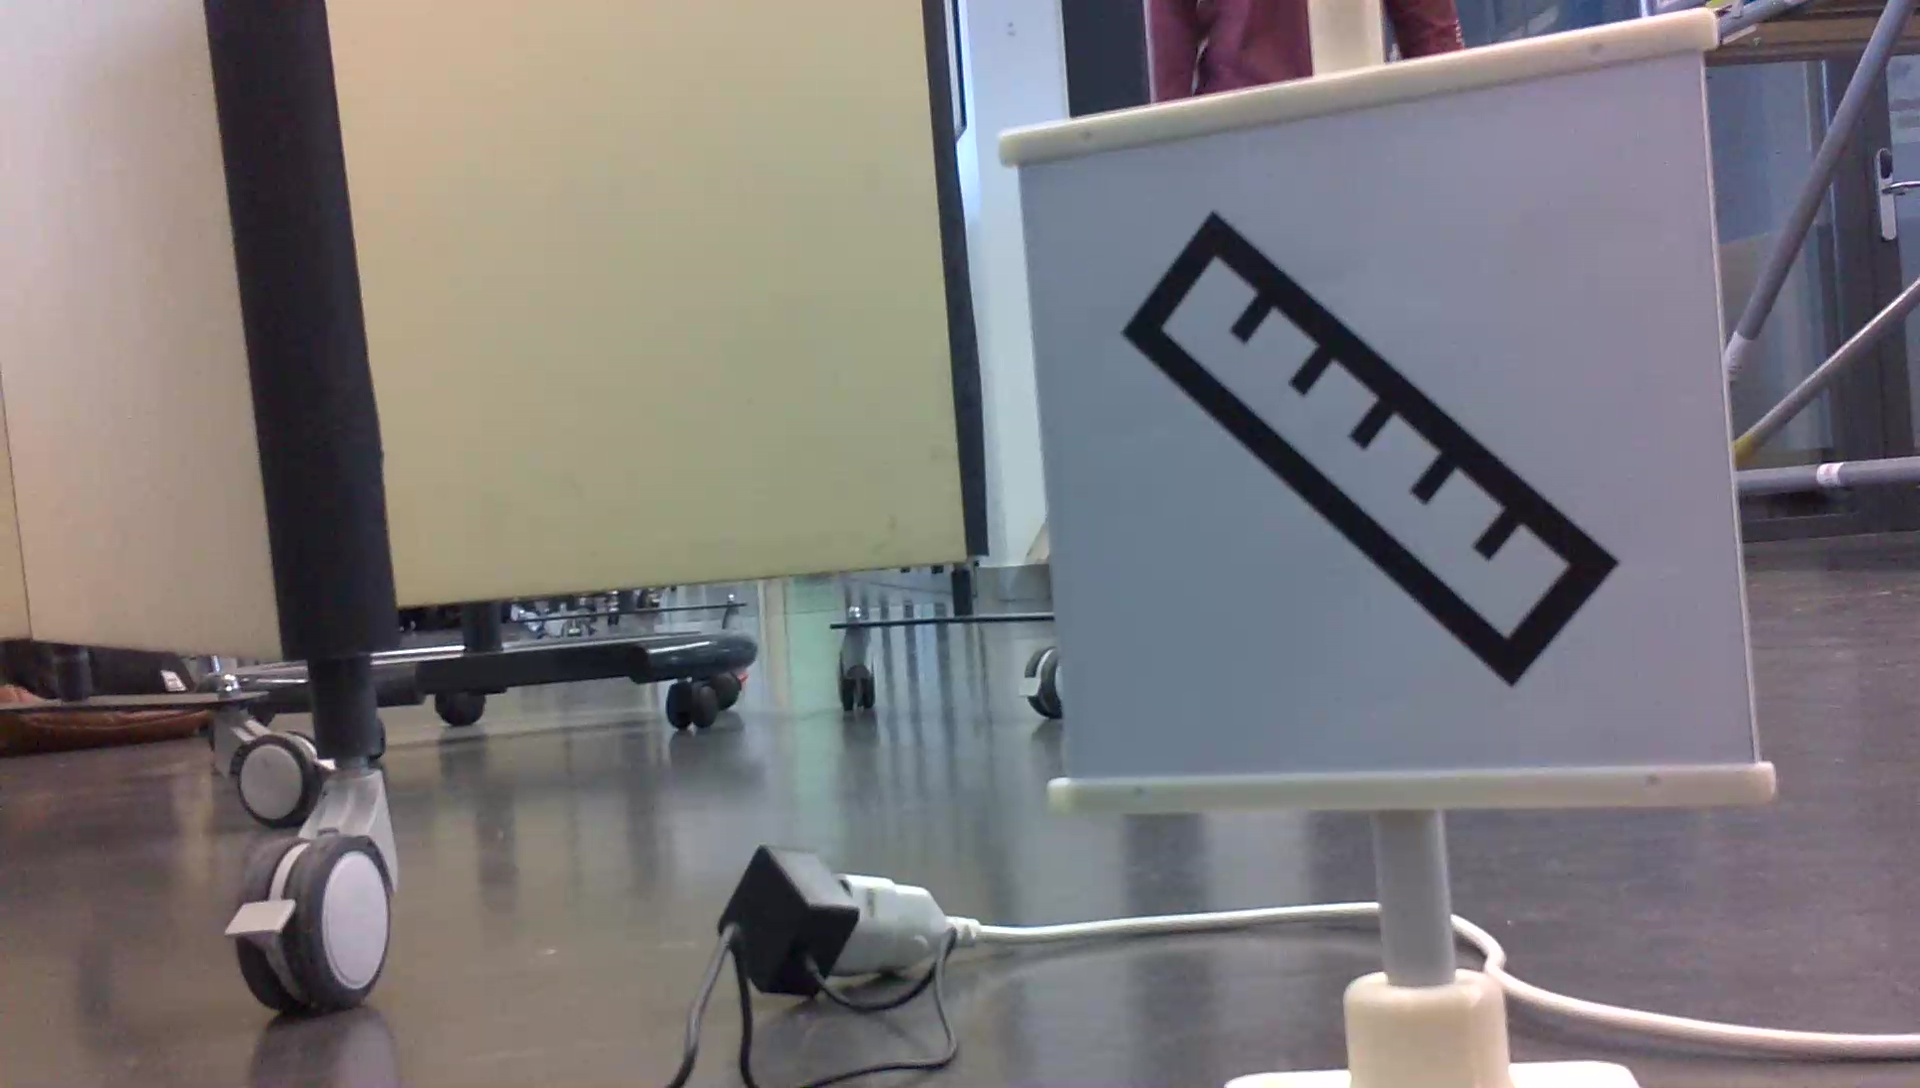ruler: (1118, 199, 1629, 702)
